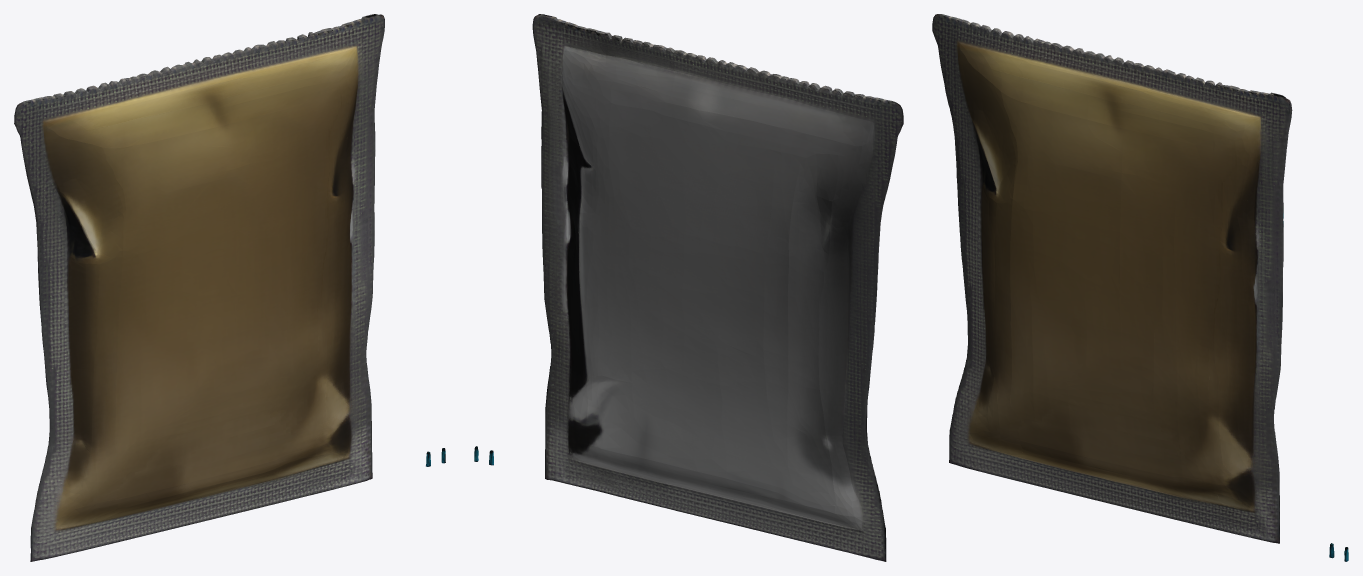
Rendered from sample.glb.
3 renders of one model, left to right at view 1: azimuth 30°, elevation 25°; view 2: azimuth 150°, elevation 25°; view 3: azimuth 330°, elevation 25°, orthographic. The views are drawn at different scales.
Visible parts, largest first — view 1: world; view 2: world; view 3: world.
Part boxes in pixels (x1,y1,x2,y2): world: [14, 14, 445, 561]; world: [474, 14, 903, 561]; world: [932, 14, 1348, 561].
Size of the model in its own units: 0.9696 by 0.9993 by 0.1055.
Materials: 1 (1 with a texture image).
